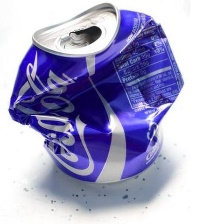can: (6, 2, 195, 190)
